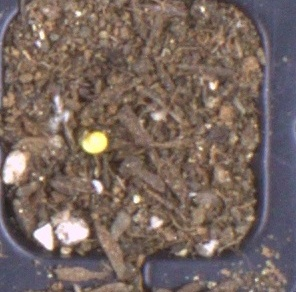chilli seed: (80, 131, 108, 155)
